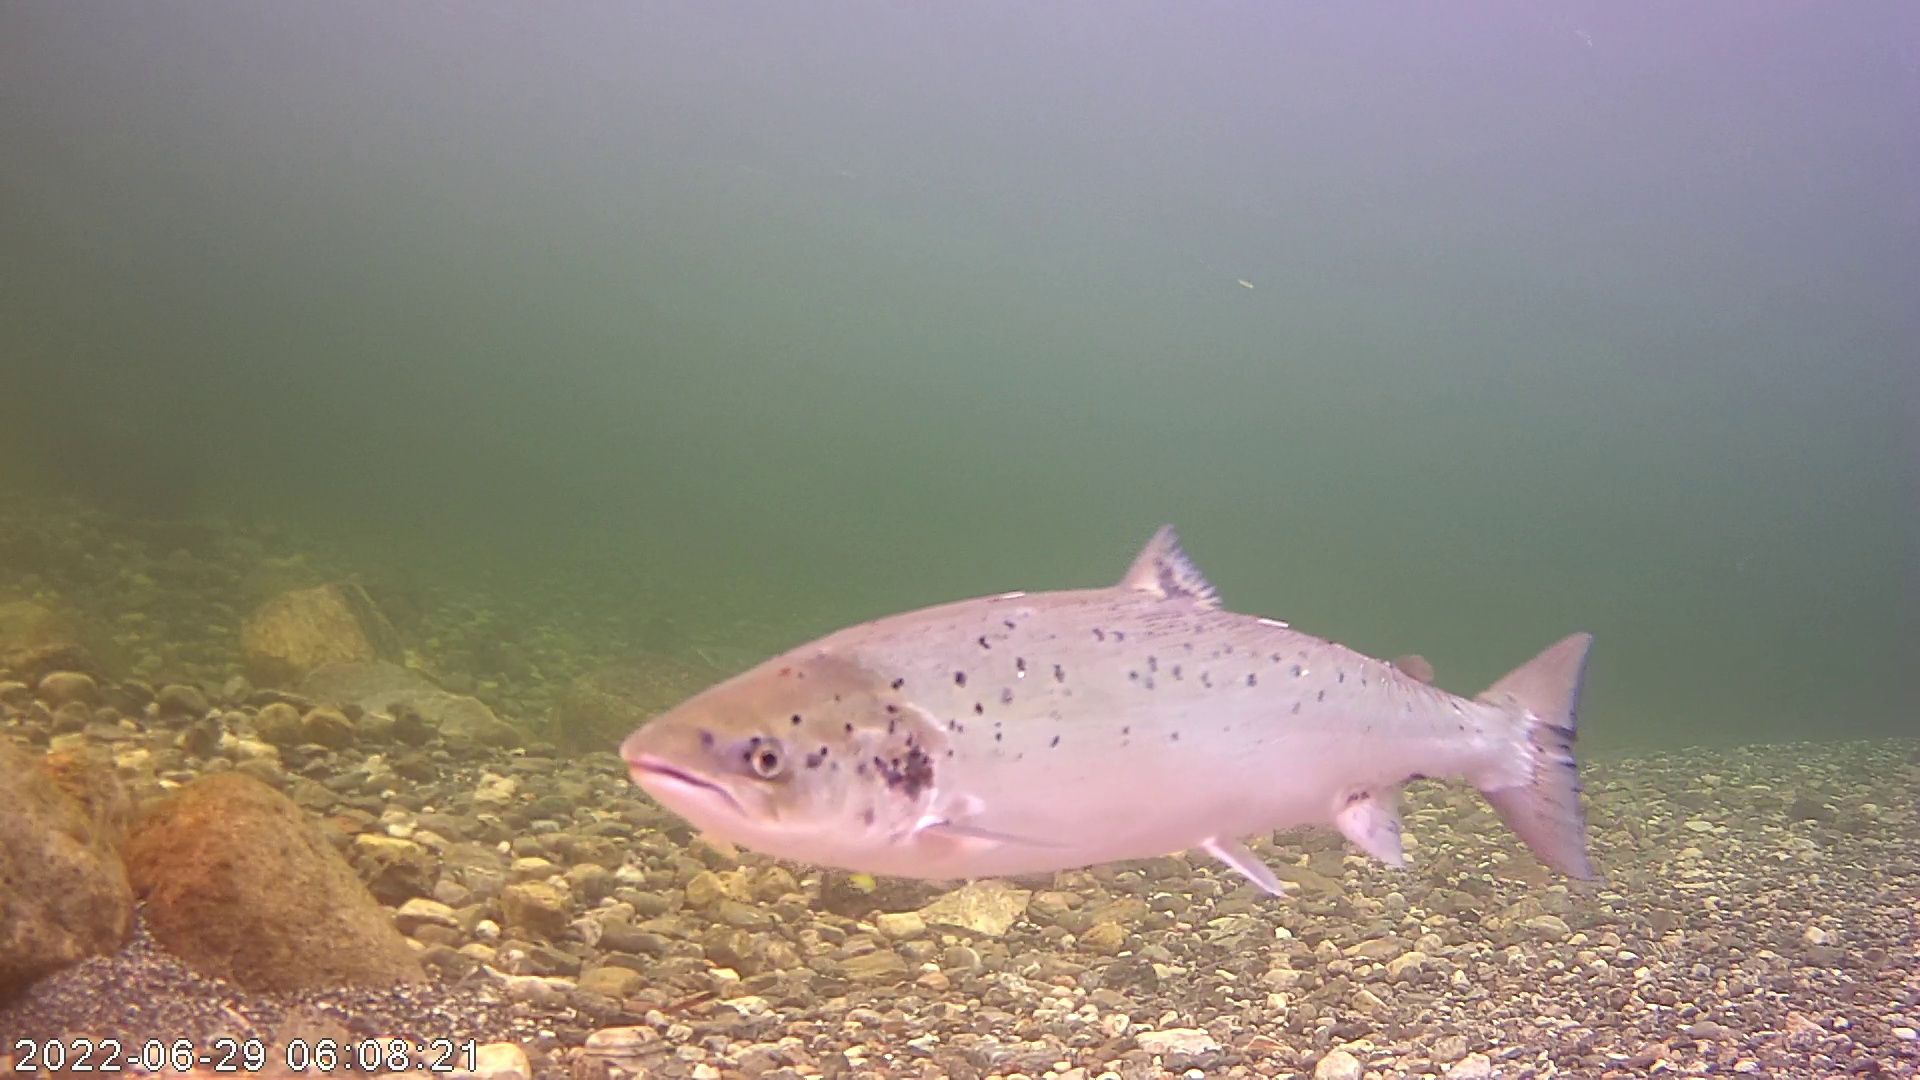salmon: (626, 460, 1606, 910)
